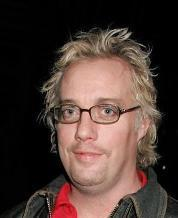face: (59, 95, 127, 166)
